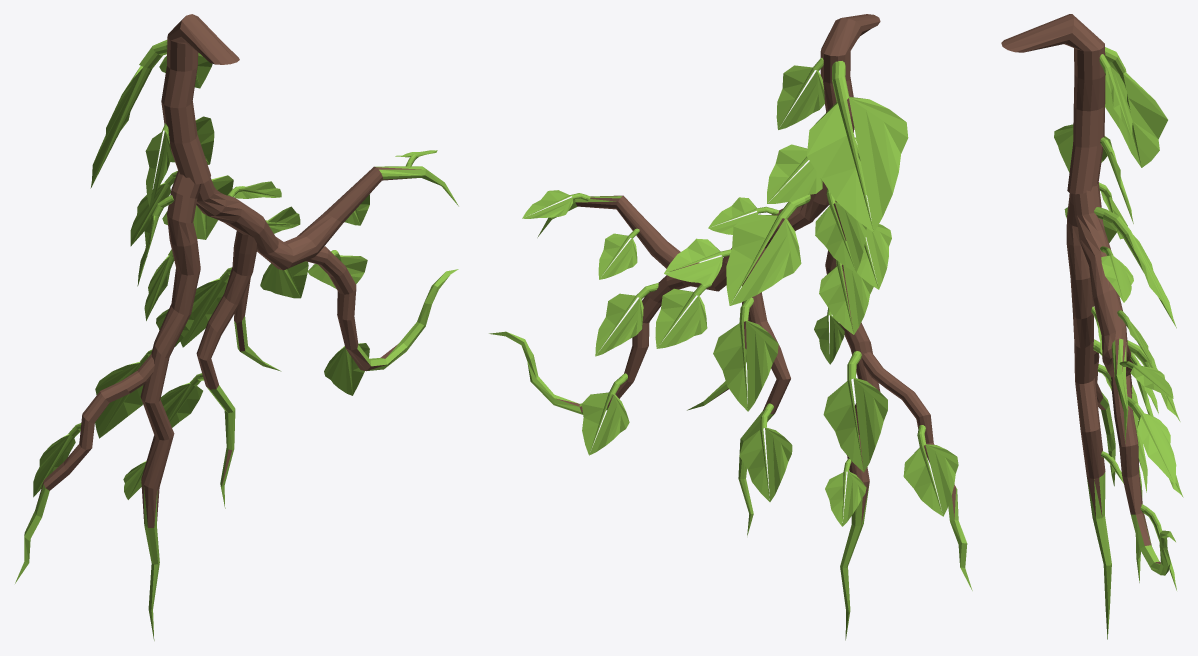
File: Twine.glb
3 views of the same model, side by side, from view 1: azimuth 30°, elevation 25°; view 2: azimuth 150°, elevation 25°; view 3: azimuth 270°, elevation 25° (orthographic). The views are drawn at different scales.
Visible parts, largest first — view 1: Node; view 2: Node; view 3: Node.
Part boxes in pixels (left/top/right/bottom): Node: left=15, top=14, right=458, bottom=640; Node: left=489, top=14, right=972, bottom=640; Node: left=1001, top=14, right=1183, bottom=639.
Size of the model in its own units: 1.39 by 1.78 by 0.4634.
